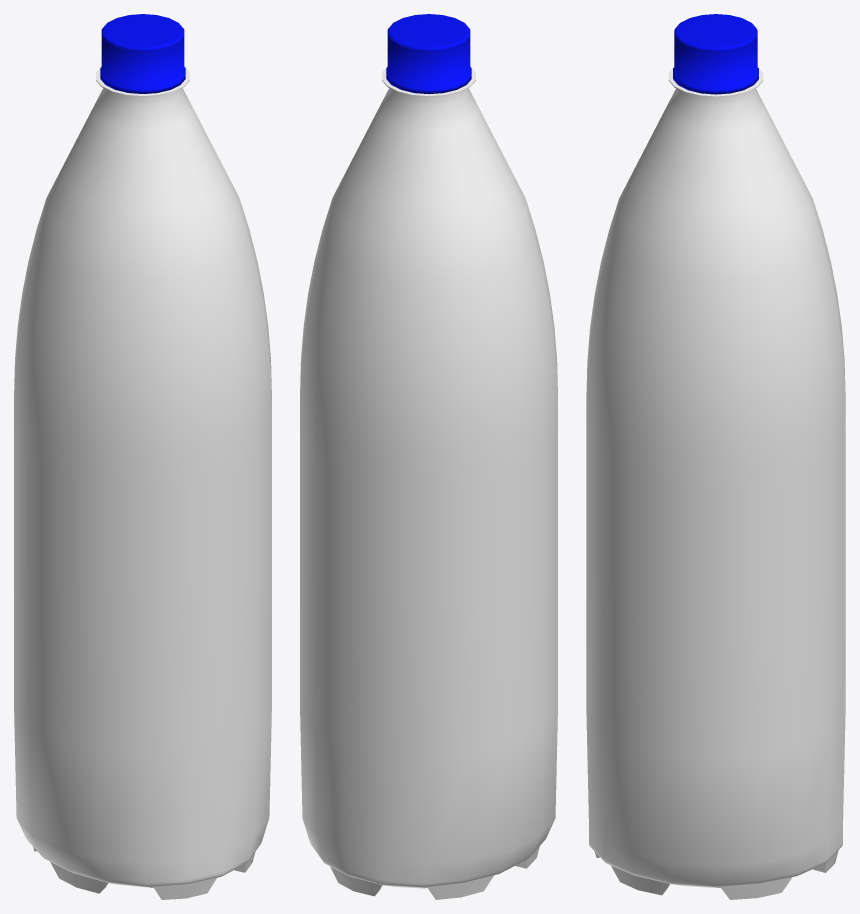
Rendered from chai2.glb.
The picture shows the model from 3 angles, left to right: view 1: azimuth 30°, elevation 25°; view 2: azimuth 150°, elevation 25°; view 3: azimuth 270°, elevation 25°; orthographic projection.
Parts seen in each view (by area): view 1: Cylinder007_Blue Cap_0; view 2: Cylinder007_Blue Cap_0; view 3: Cylinder007_Blue Cap_0.
Part boxes in pixels (bbox=[...]): Cylinder007_Blue Cap_0: bbox=[14, 14, 271, 899]; Cylinder007_Blue Cap_0: bbox=[300, 14, 557, 899]; Cylinder007_Blue Cap_0: bbox=[586, 14, 845, 899].
Size of the model in its own units: 0.022 by 0.076 by 0.0217.
